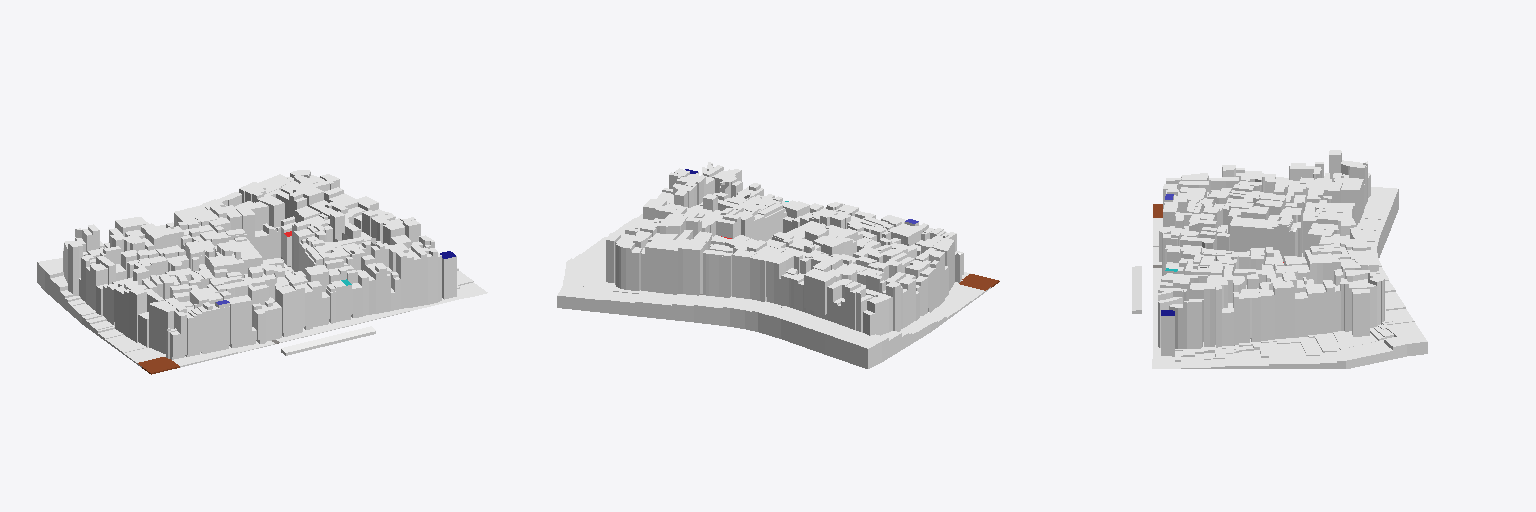
Rendered from kowloon-walled-city.obj.
3 renders of one model, left to right at view 1: azimuth 30°, elevation 25°; view 2: azimuth 150°, elevation 25°; view 3: azimuth 270°, elevation 25°, orthographic.
Visible parts, largest first — view 1: Mesh71 Model, Mesh73 Model; view 2: Mesh71 Model; view 3: Mesh71 Model.
Part boxes in pixels (bbox=[...]): Mesh71 Model: bbox=[37, 170, 487, 374]; Mesh73 Model: bbox=[281, 326, 375, 355]; Mesh71 Model: bbox=[557, 162, 999, 368]; Mesh71 Model: bbox=[1152, 150, 1427, 368].
Bounding box in the file's own units: 26376 × 5254 × 20054.